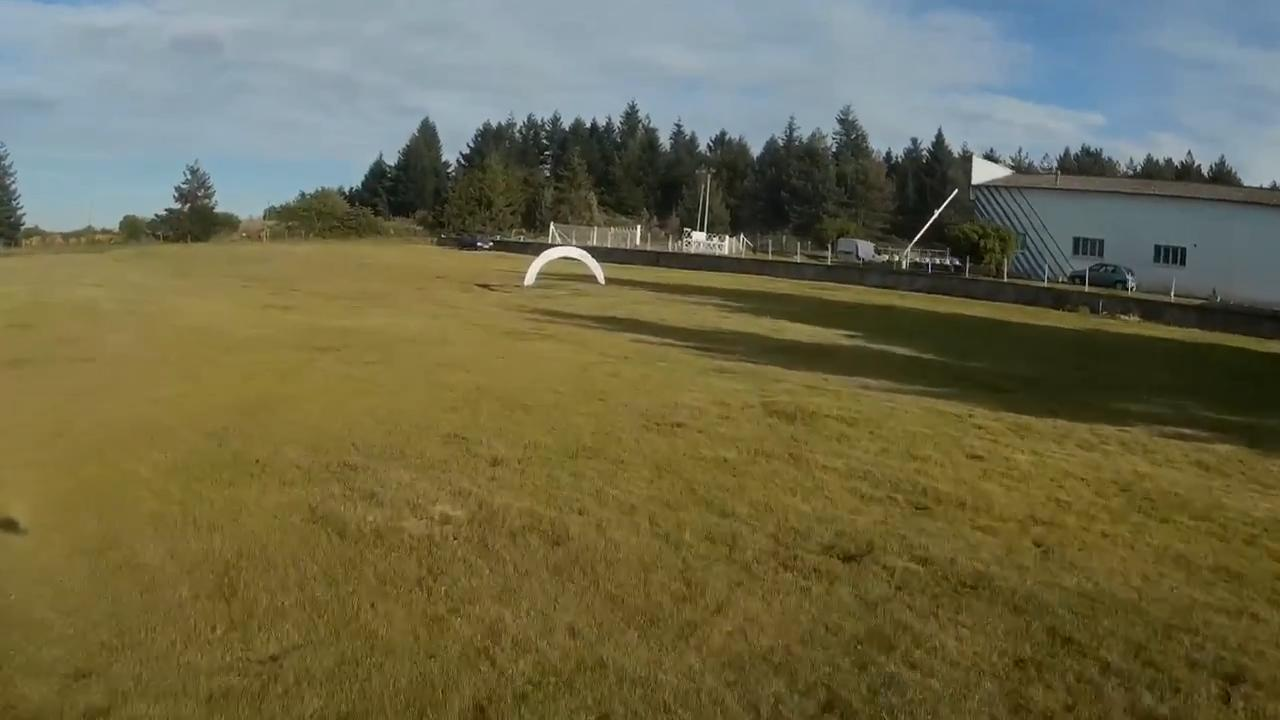gate: (522, 243, 603, 289)
